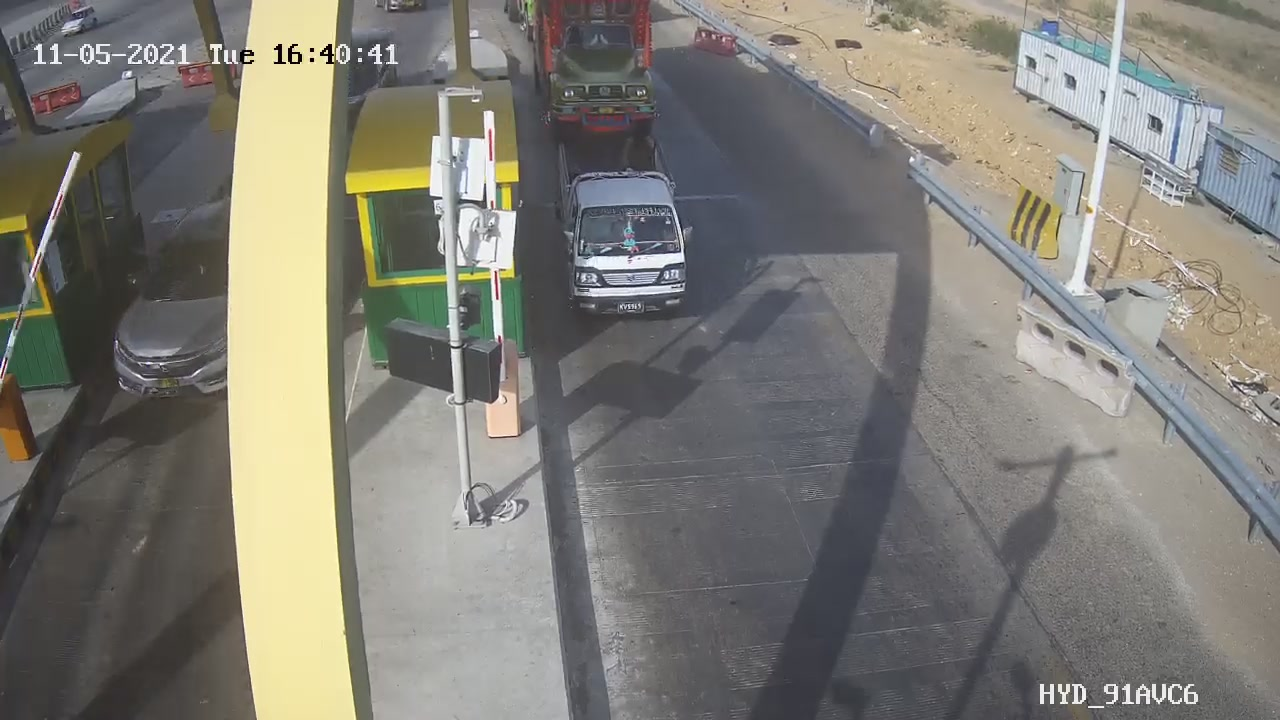F1: (534, 130, 720, 336)
